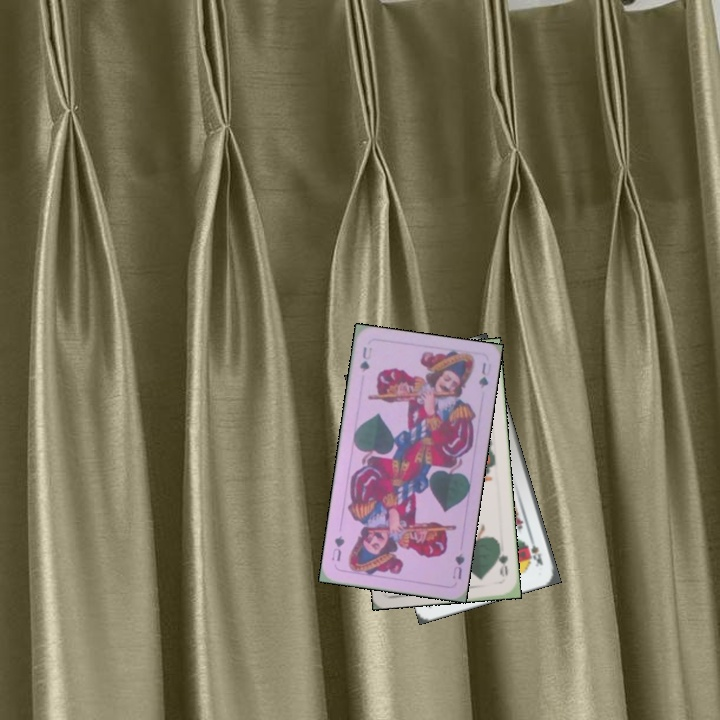GO: (493, 542, 511, 579)
GU: (448, 549, 467, 582), (356, 343, 374, 375)
SK: (525, 532, 546, 569)
